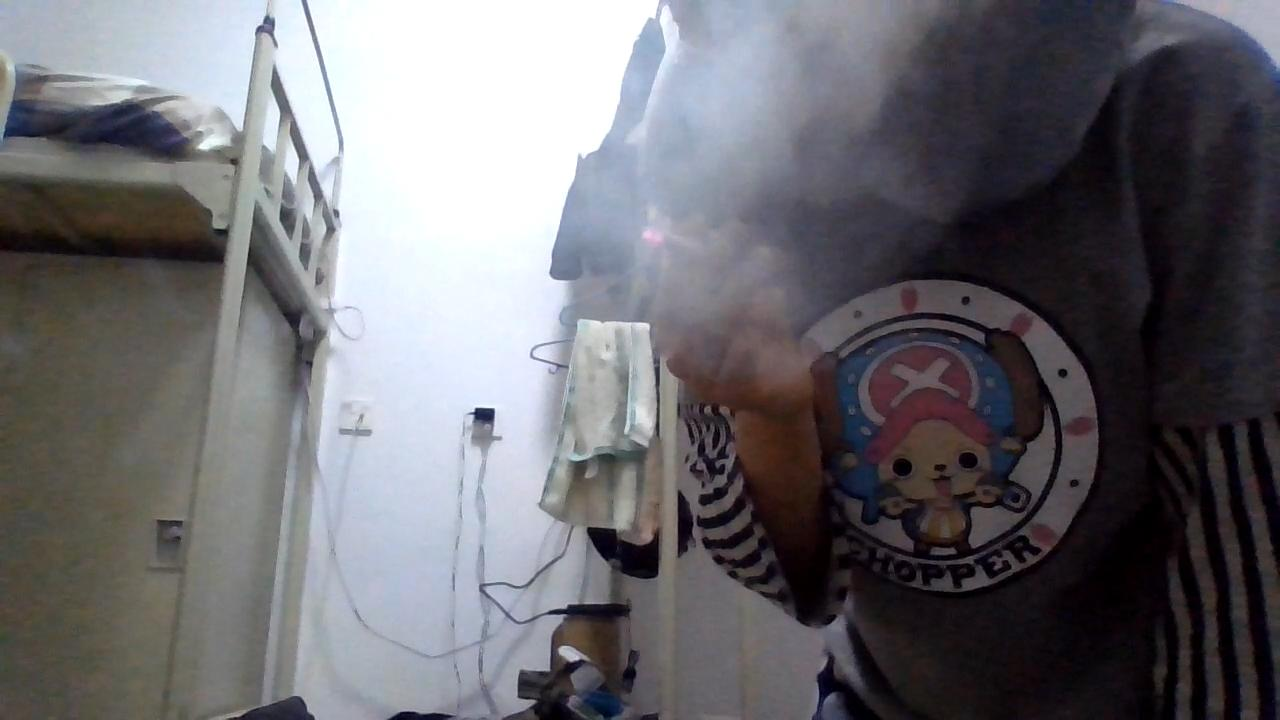yanwu: (628, 2, 949, 202)
